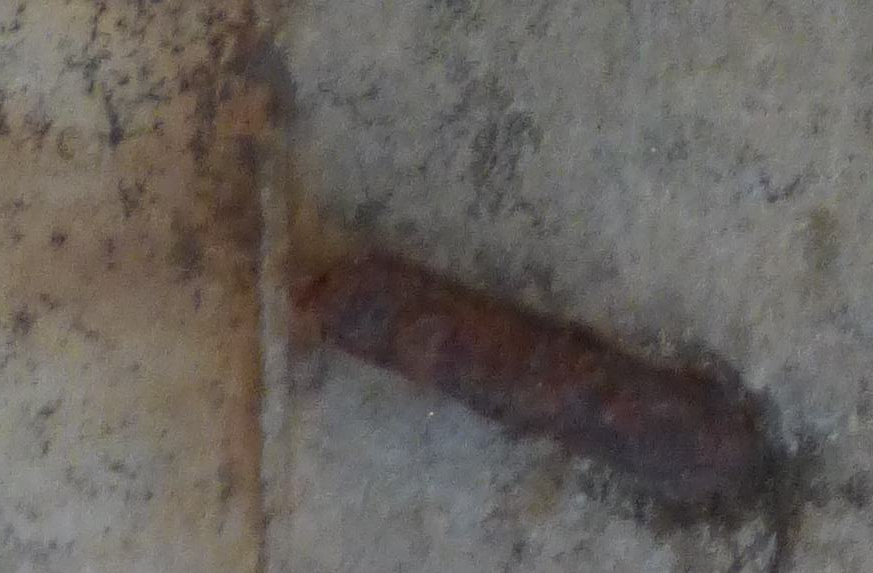Exposed reinforcement: (312, 253, 769, 495)
